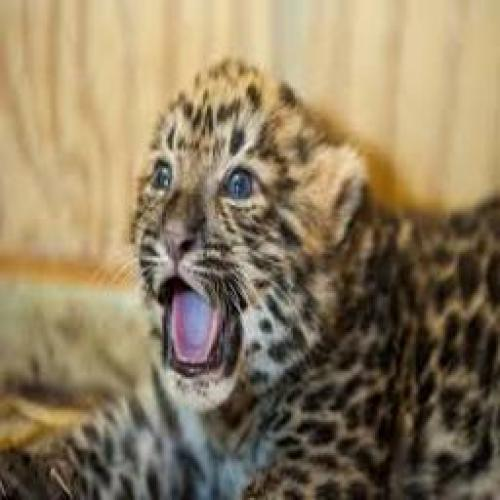amur_leopard-endangered: (16, 56, 490, 489)
